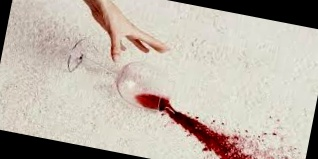wine: (137, 89, 313, 159)
